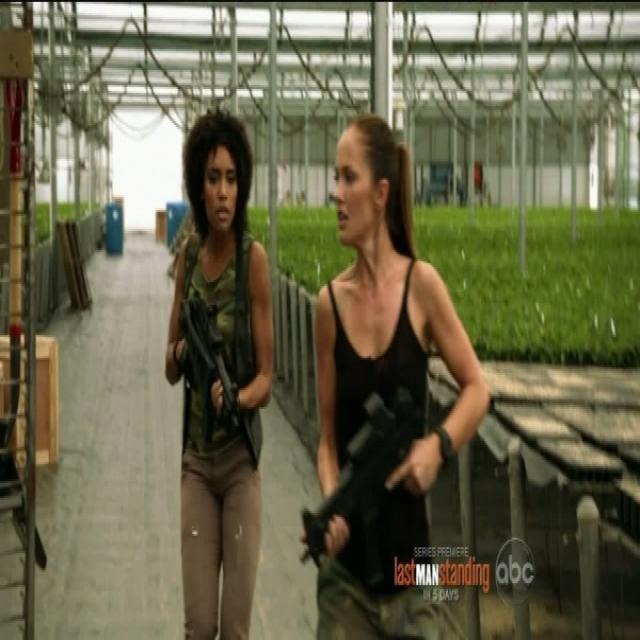rifle: (300, 390, 423, 579), (181, 298, 262, 477)
